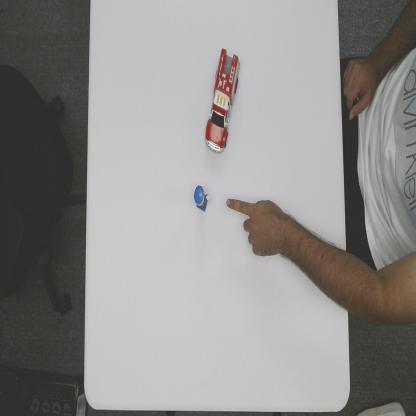Arm: (281, 212, 346, 302)
Firetruck: (205, 46, 240, 154)
Hand: (224, 196, 283, 258)
